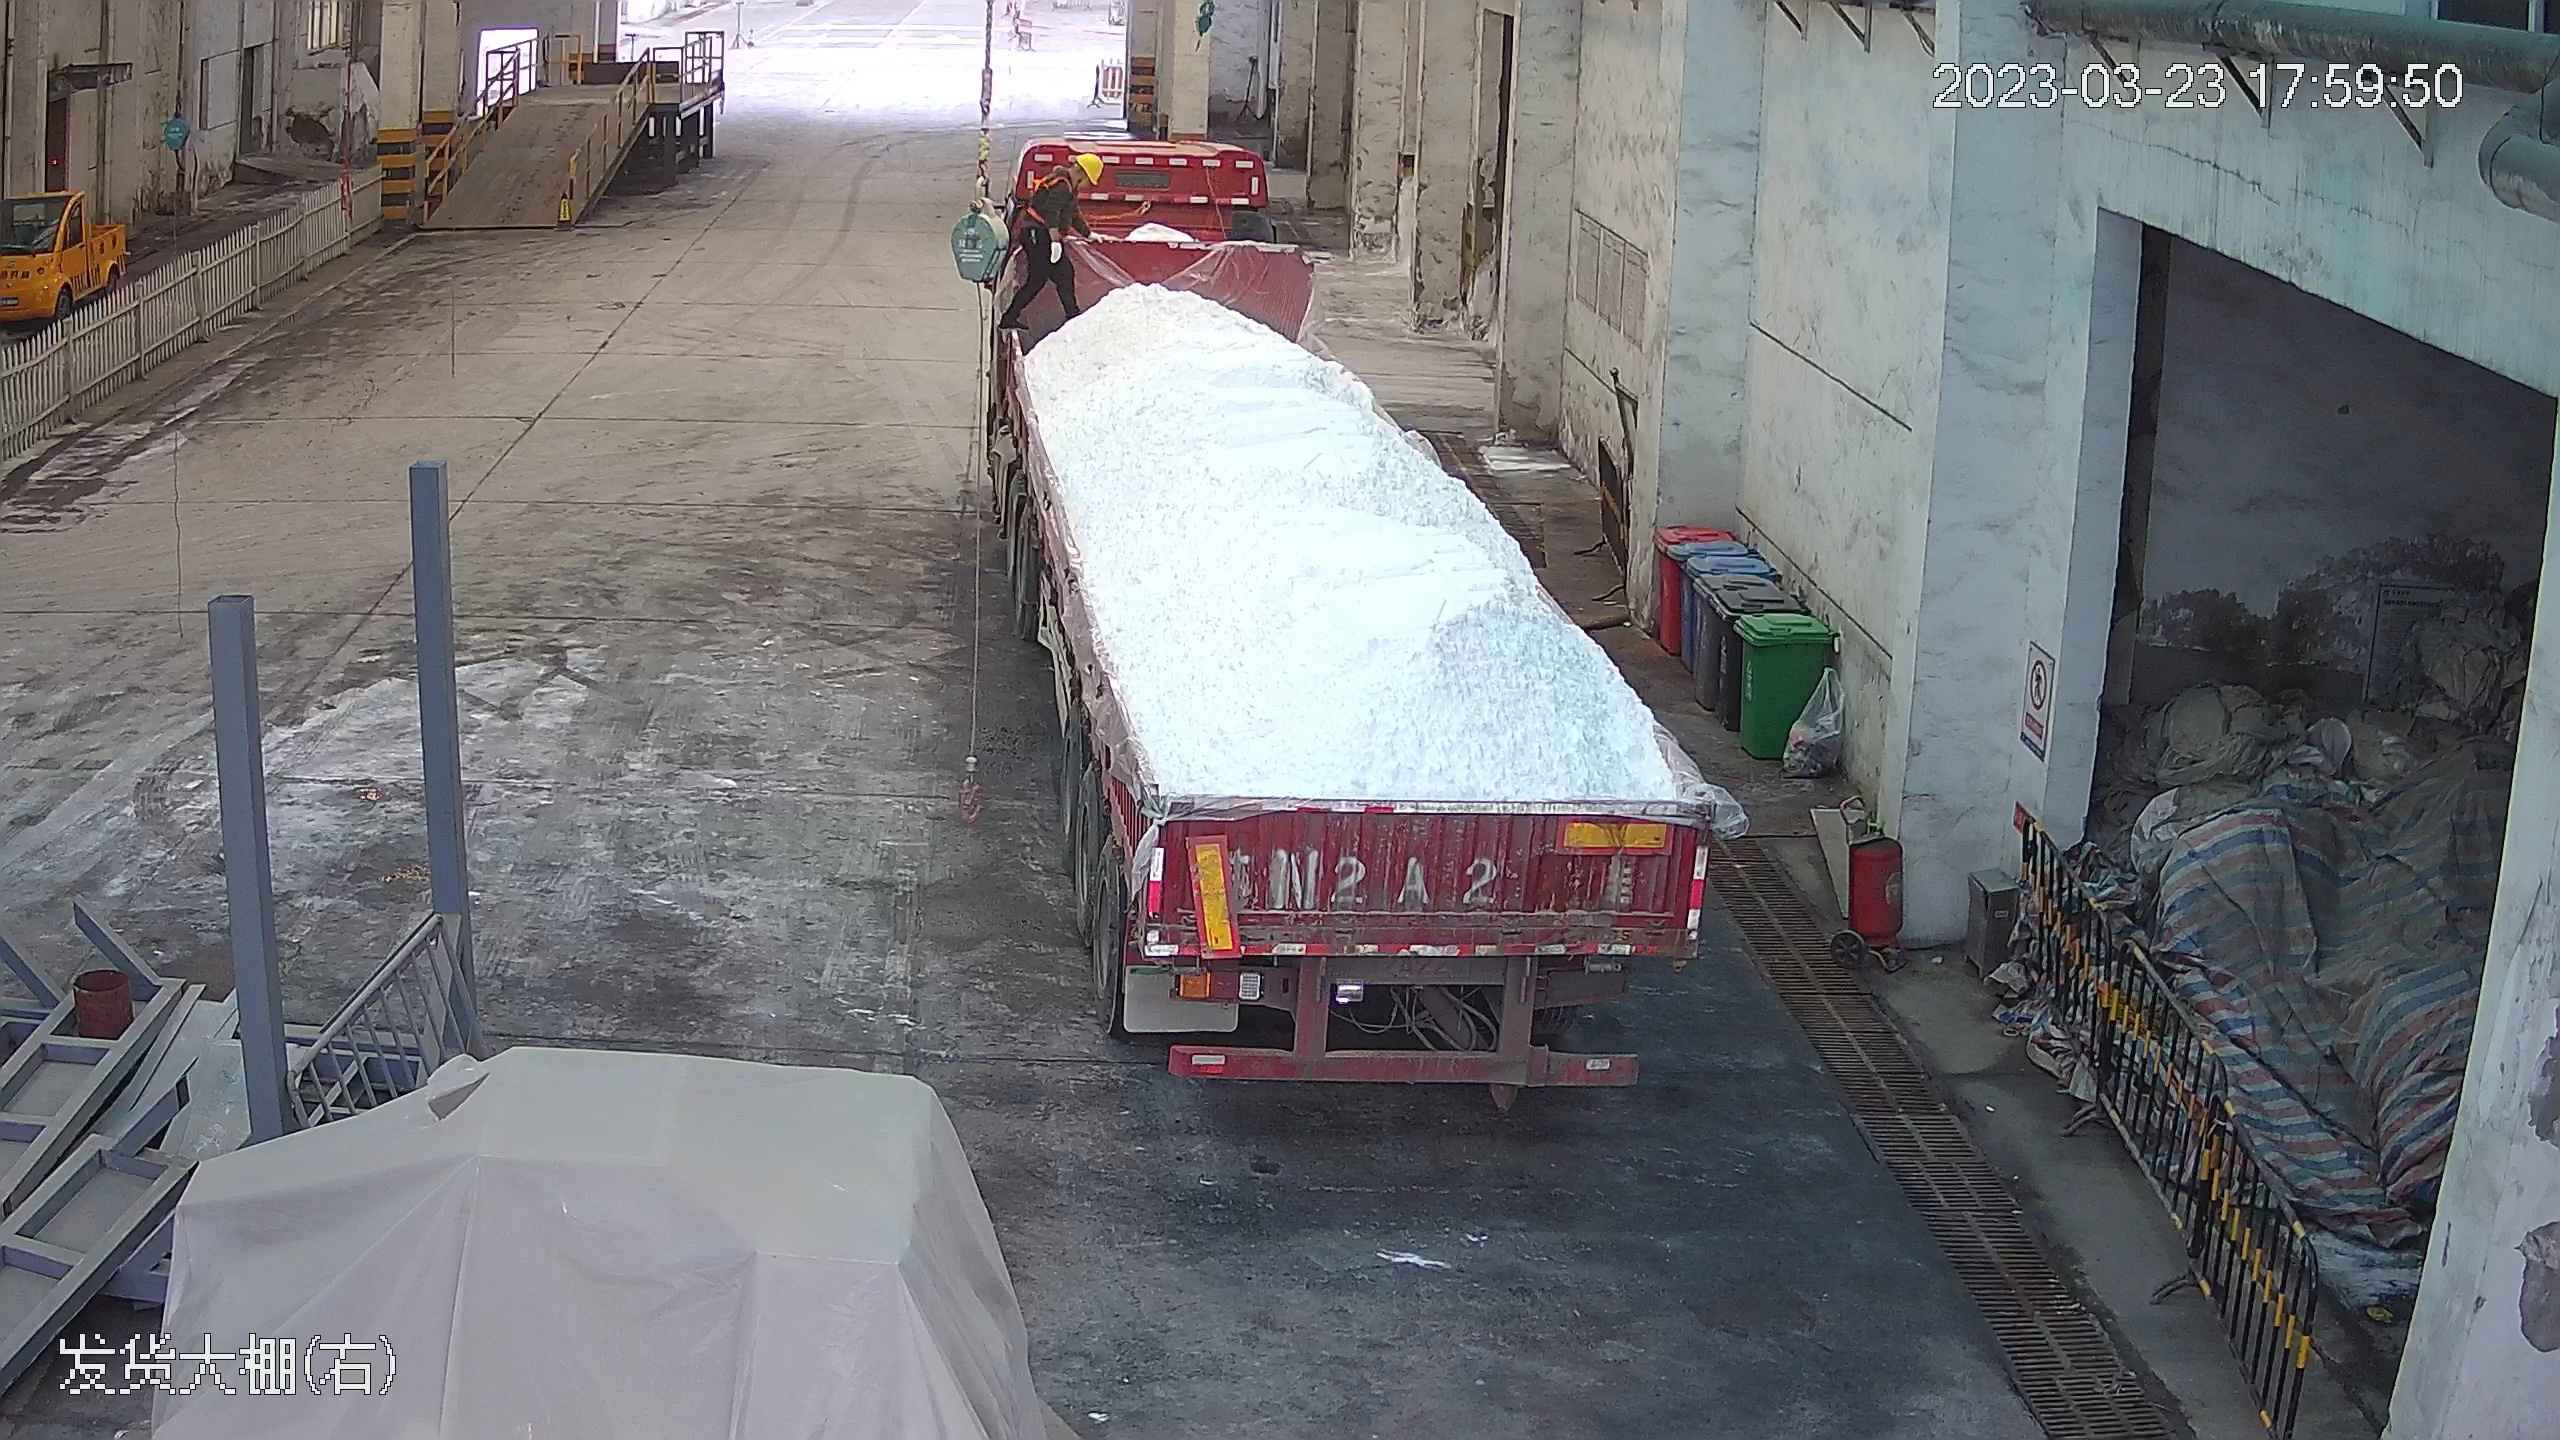belt: (1033, 166, 1082, 214)
head: (1049, 150, 1105, 203)
helmet: (1074, 150, 1103, 181)
people: (1024, 146, 1103, 327)
truck: (964, 126, 1719, 1097)
